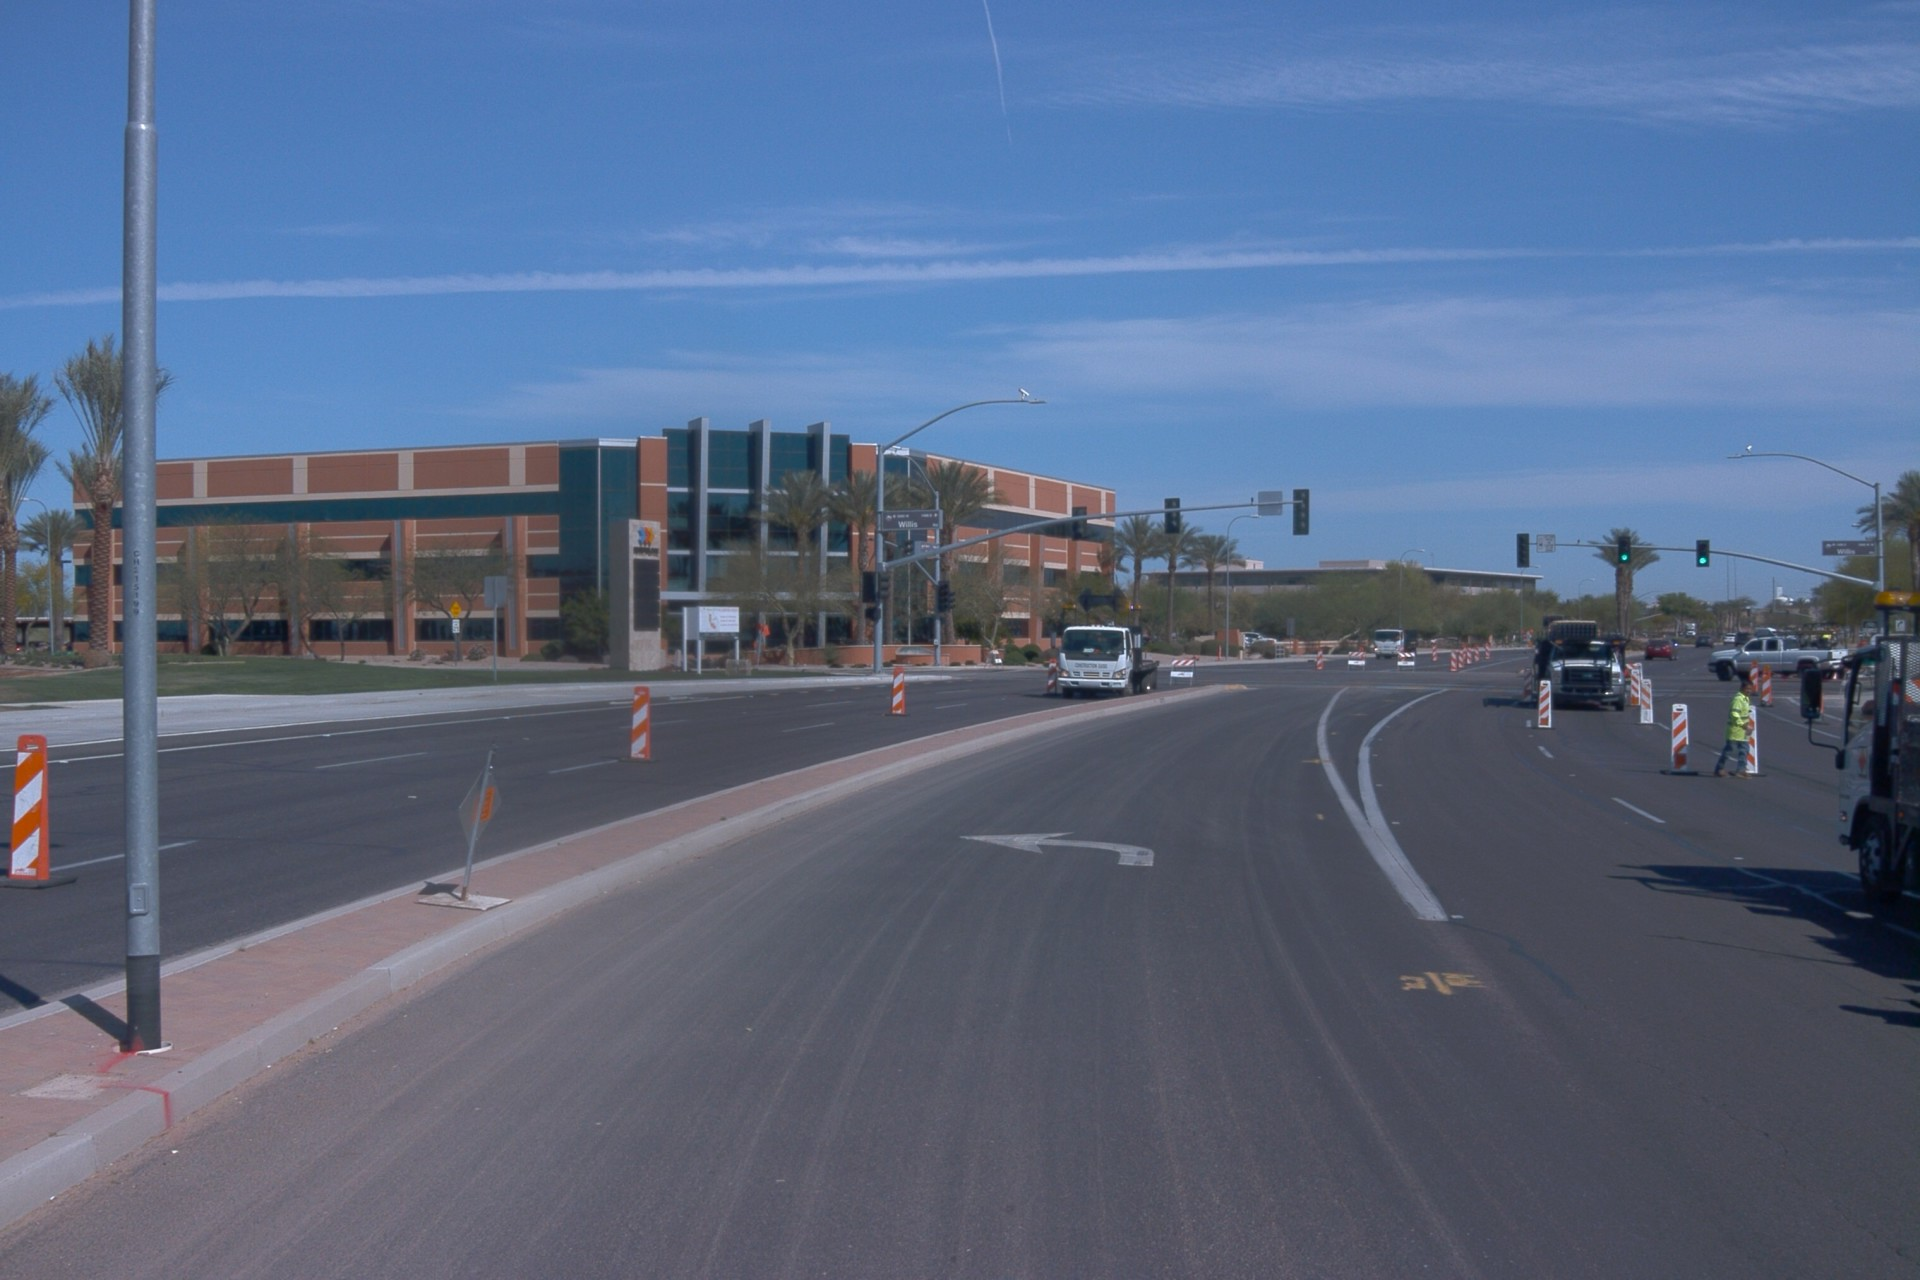TYPE_PEDESTRIAN: (1712, 680, 1756, 782)
TYPE_VEHICLE: (1790, 522, 1920, 945), (1528, 615, 1636, 719), (1052, 622, 1161, 704), (1702, 627, 1856, 684), (1371, 625, 1423, 661), (1641, 634, 1684, 662), (1241, 631, 1279, 650), (1692, 633, 1717, 652), (1732, 630, 1754, 648), (1723, 630, 1741, 648), (1685, 622, 1699, 639), (1517, 662, 1523, 682)
